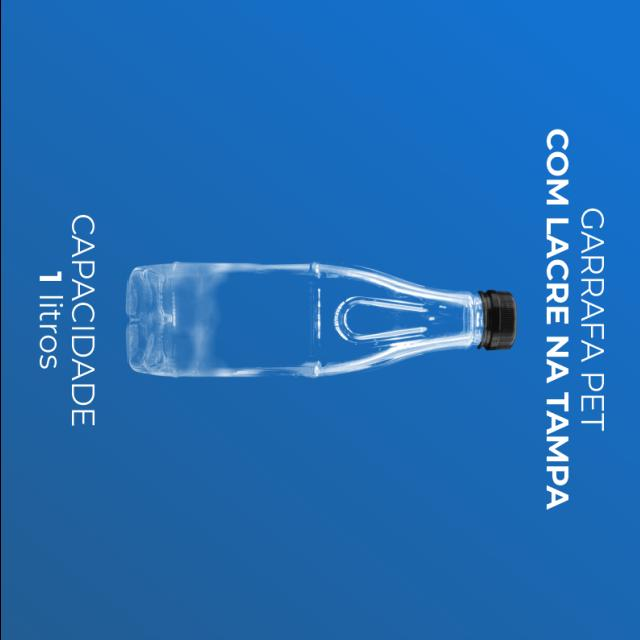bottle: (127, 262, 515, 378)
